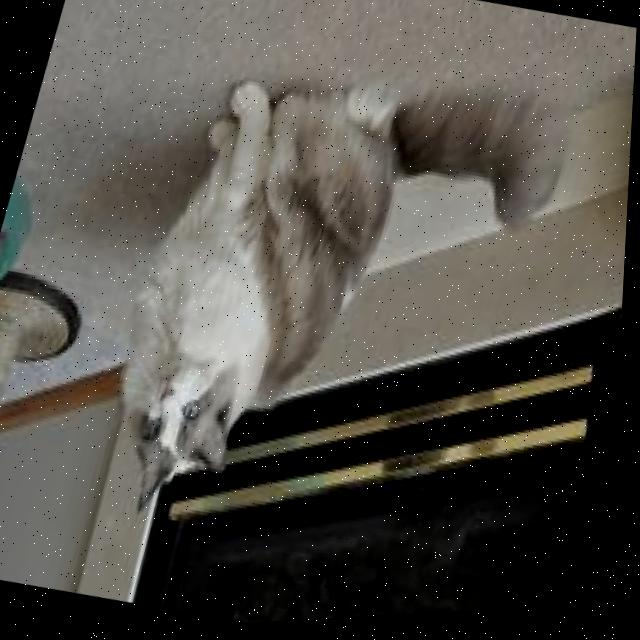Ragdoll: (73, 21, 591, 599)
